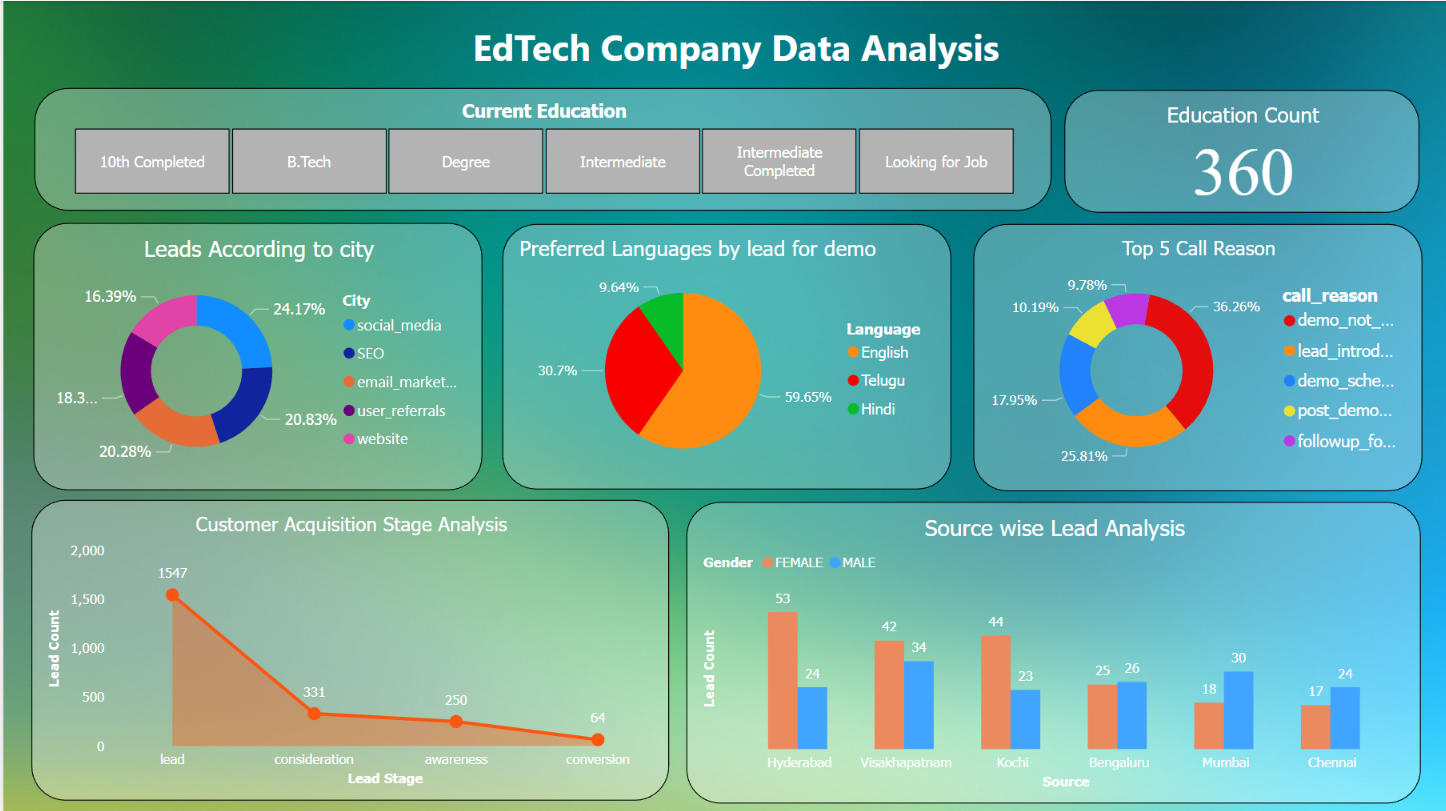

The page's visual inventory and layout, read from the dashboard file:
{"tool":"powerbi","page":{"name":"Assignment sheet 1","canvas":[1280,720],"ordinal":0},"visuals":[{"type":"clusteredColumnChart","title":"Source wise Lead Analysis","fields":{"Category":["leads_basic_details.current_city"],"Y":["CountNonNull(leads_basic_details.lead_id)"],"Series":["leads_basic_details.gender"]},"box":[604.9,443.7,650.6,267.5],"z":0},{"type":"areaChart","title":"Customer Acquisition Stage Analysis","fields":{"Category":["leads_interaction_details.lead_stage"],"Y":["CountNonNull(leads_interaction_details.lead_id)"]},"box":[24.8,441.9,565,266.7],"z":1000},{"type":"donutChart","title":"Leads According to city ","fields":{"Category":["leads_basic_details.lead_gen_source"],"Y":["CountNonNull(leads_basic_details.lead_id)"]},"box":[26.9,196.3,397.6,236.5],"z":2000},{"type":"pieChart","title":"Preferred Languages by lead for demo","fields":{"Category":["leads_demo_watched_details.language"],"Y":["Sum(leads_demo_watched_details.watched_percentage)"]},"box":[442.3,197.5,397.6,235.6],"z":3000},{"type":"donutChart","title":"Top 5 Call Reason","fields":{"Category":["leads_interaction_details.call_reason"],"Y":["CountNonNull(leads_interaction_details.lead_id)"]},"box":[858.7,197.5,397.6,236.5],"z":4000},{"type":"slicer","title":"Current Education","fields":{"Values":["leads_basic_details.current_education"]},"box":[27.5,77,901.2,108.9],"z":4001},{"type":"card","title":"Education Count","fields":{"Values":["leads_basic_details.Education"]},"box":[939.3,79.2,314.4,108.9],"z":4002},{"type":"textbox","box":[307,14.5,682.8,53.1],"z":4003}]}

Visuals, with their boxes in screenshot pixels (x1, y1, x2, y2), scaled from the page's 1280x720 canvas onto the 1446x811 screenshot:
"Source wise Lead Analysis" clusteredColumnChart: 683, 500, 1418, 801
"Customer Acquisition Stage Analysis" areaChart: 28, 498, 666, 798
"Leads According to city " donutChart: 30, 221, 480, 488
"Preferred Languages by lead for demo" pieChart: 500, 222, 949, 488
"Top 5 Call Reason" donutChart: 970, 222, 1419, 489
"Current Education" slicer: 31, 87, 1049, 209
"Education Count" card: 1061, 89, 1416, 212
textbox: 347, 16, 1118, 76
